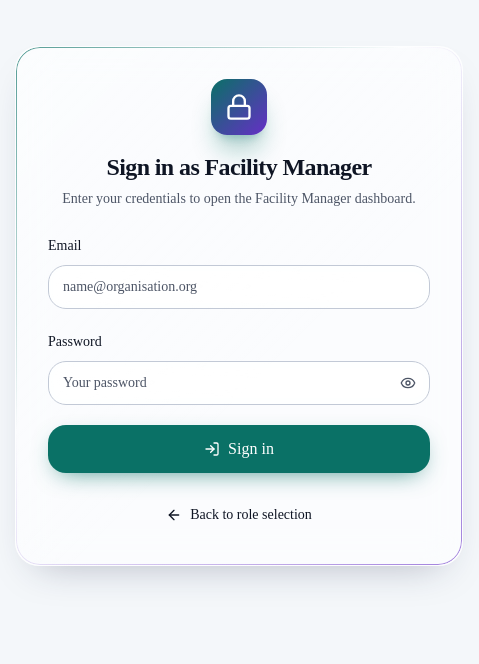
Scenario: LoginPage › shows the server error and does not navigate when sign-in fails
The image size is (479, 664).
In the field labelled "Email": (239, 287) [48,265,430,309], type "officer@example.org"
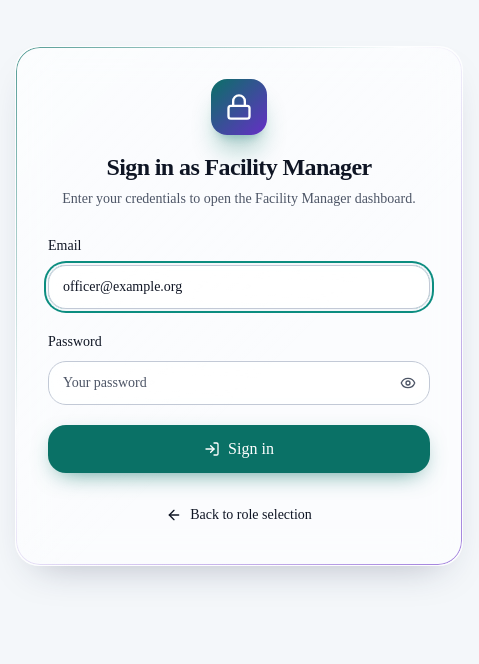
In the password field labelled "Password": (239, 383) [48,361,430,405], type "wrong"
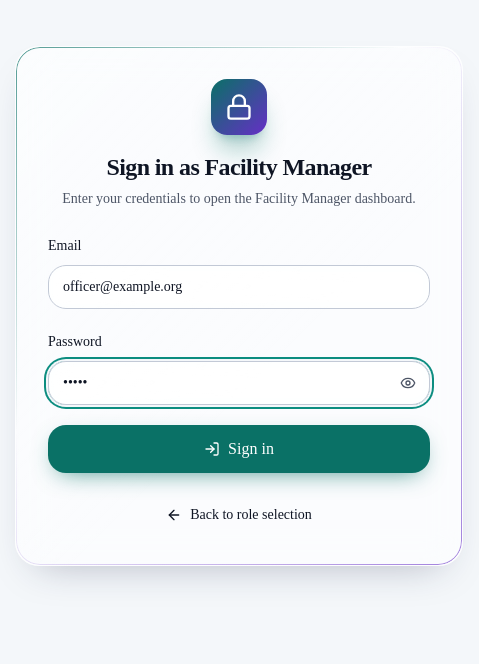
Click the button "Sign in": (239, 449) [48,425,430,473]
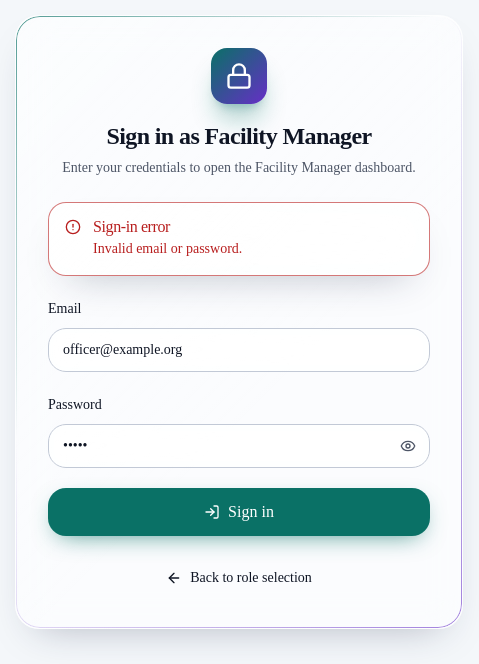
Check: the message shows "Invalid email or password", box [93,241,242,256]
